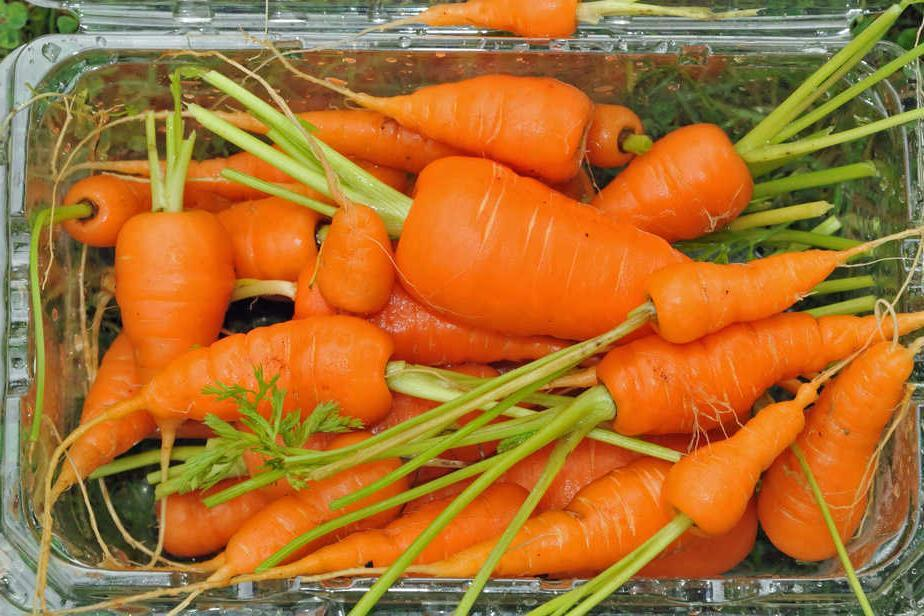carrot: (78, 95, 865, 552), (90, 443, 830, 579), (383, 148, 702, 358), (140, 304, 416, 457), (81, 202, 243, 432), (785, 318, 905, 588), (340, 68, 634, 176), (208, 175, 407, 325), (657, 377, 809, 569), (52, 154, 261, 264)
